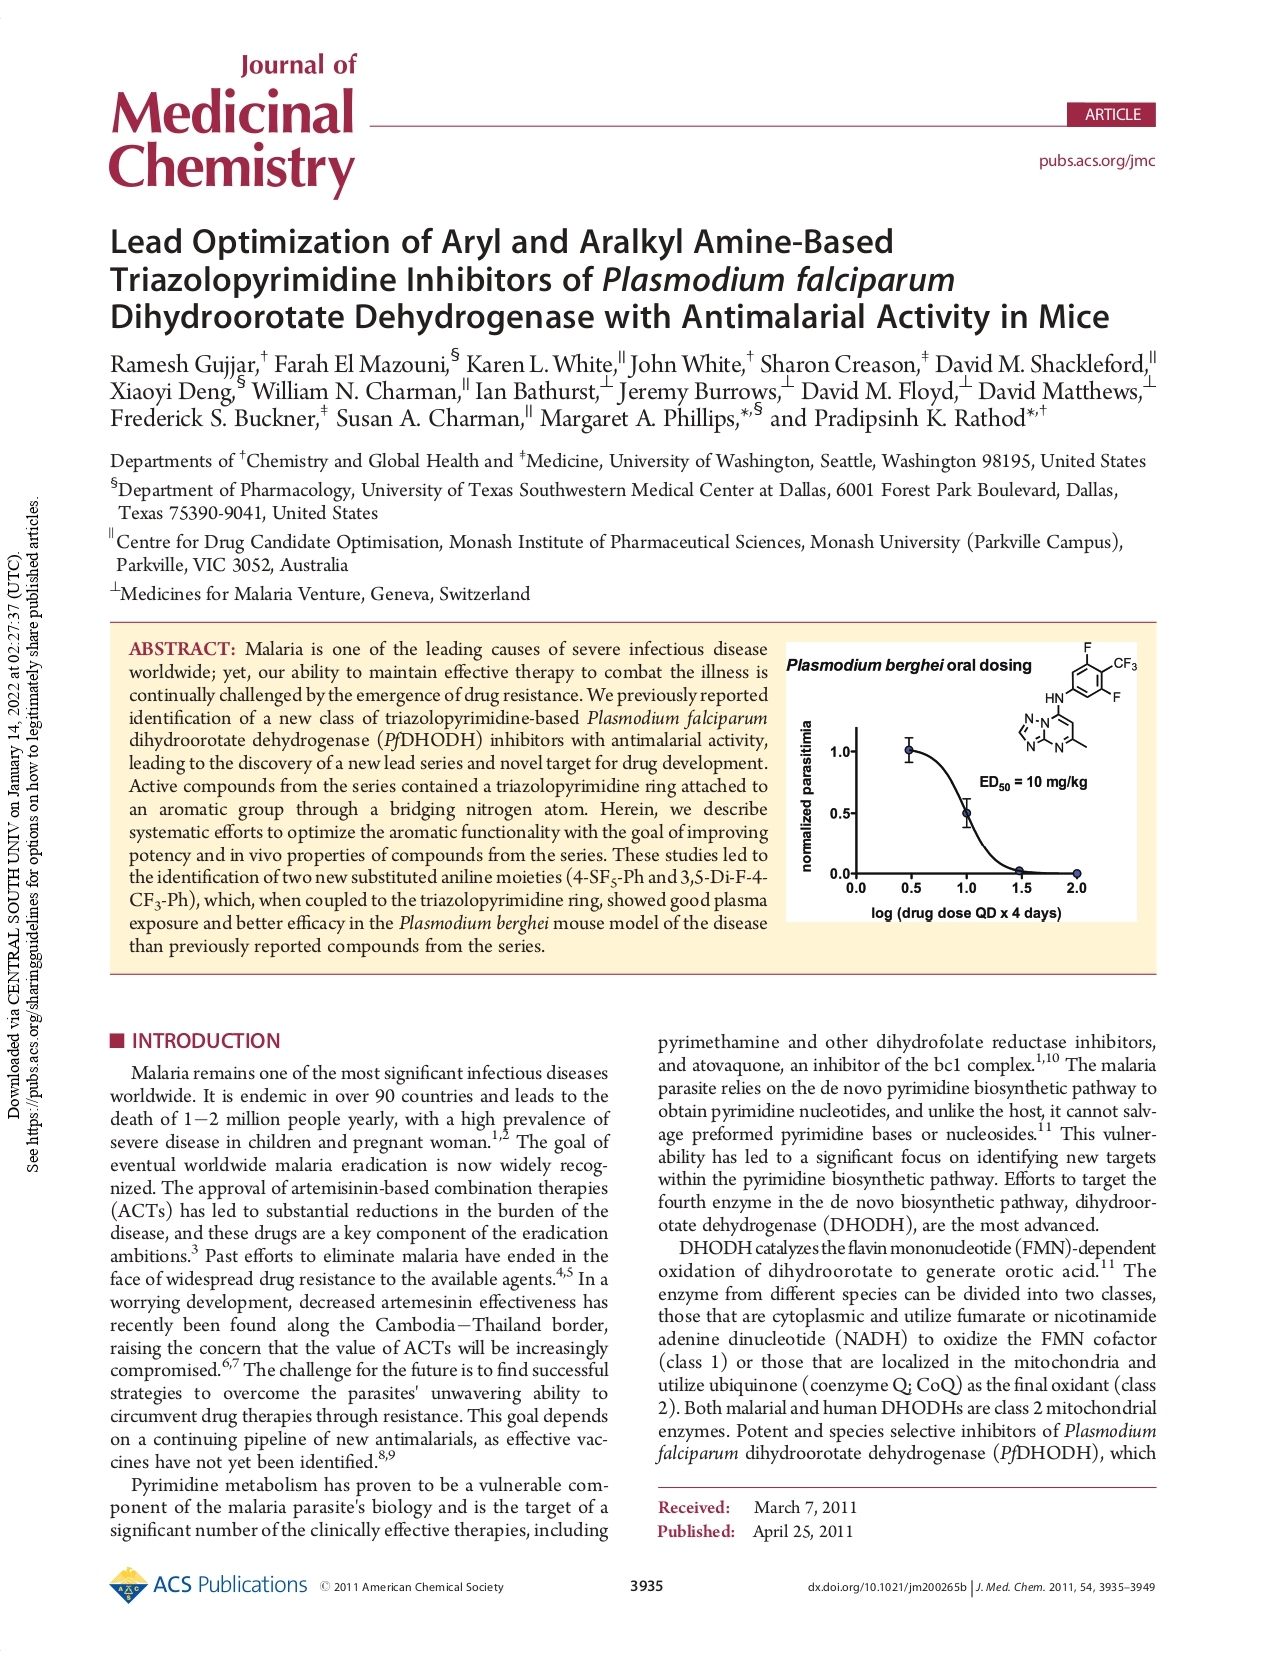exist_molecular: (1016, 640, 1137, 755)
